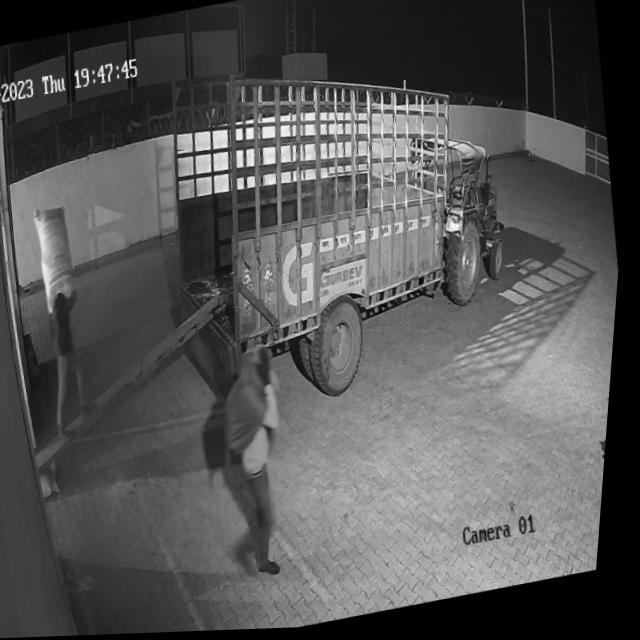sack: (31, 203, 88, 314)
